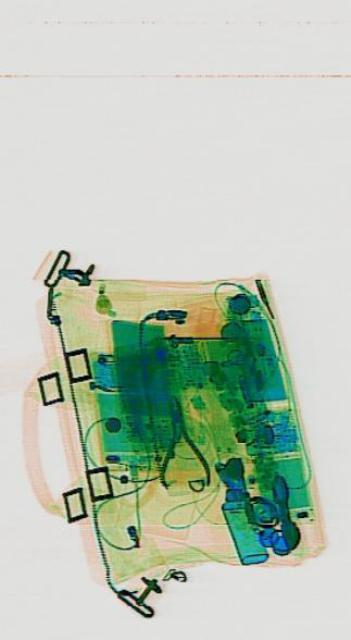Pliers: (150, 384, 209, 498)
